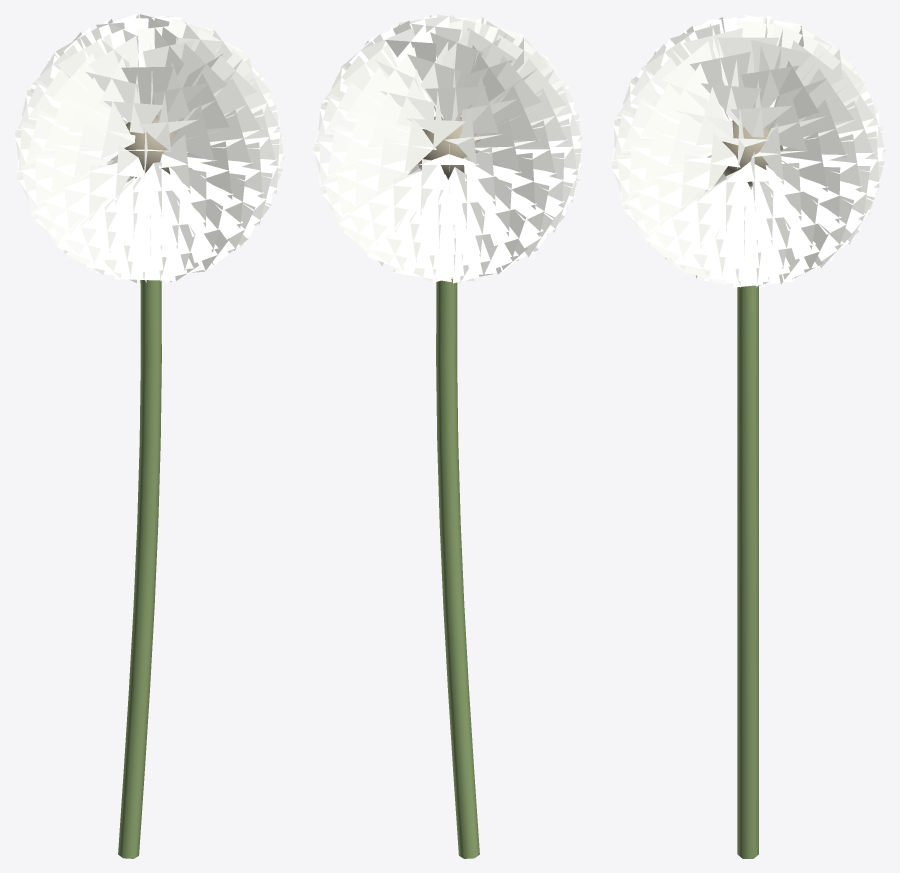
Rendered from pusteblume.glb.
3 renders of one model, left to right at view 1: azimuth 30°, elevation 25°; view 2: azimuth 150°, elevation 25°; view 3: azimuth 270°, elevation 25°, orthographic.
Parts seen in each view (by area): view 1: pusteblume_lod0; view 2: pusteblume_lod0; view 3: pusteblume_lod0.
Boxes of the visible parts, left/top/right/bottom form: pusteblume_lod0: left=14, top=14, right=283, bottom=858; pusteblume_lod0: left=313, top=14, right=582, bottom=858; pusteblume_lod0: left=611, top=15, right=885, bottom=858.
Size of what is drawn, in the model's own units: 0.3065 by 1.03 by 0.3072.
